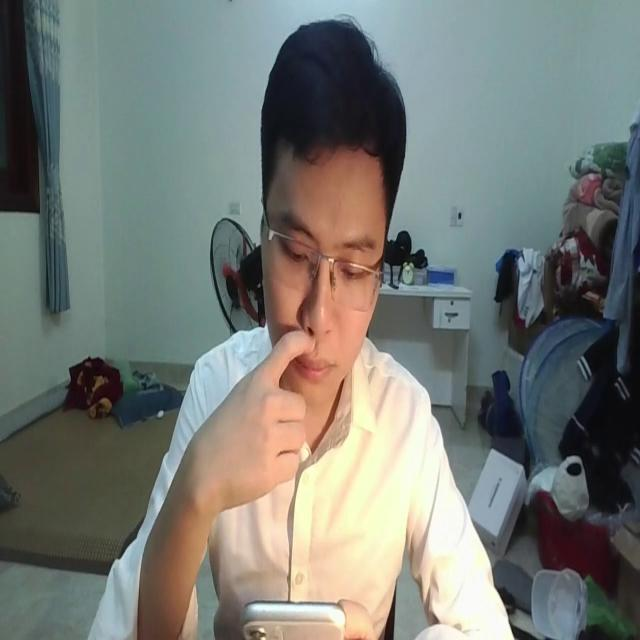phone: (240, 586, 347, 640)
student: (85, 10, 510, 640)
